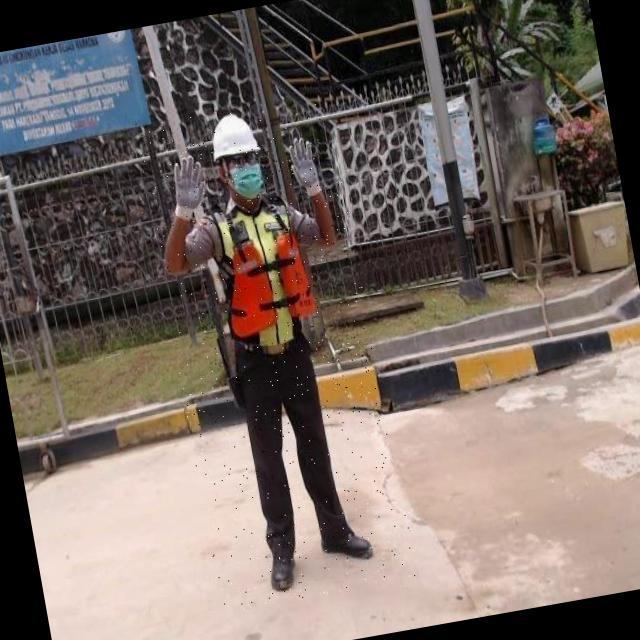boots: (316, 517, 378, 569), (264, 536, 304, 596)
gloves: (158, 150, 214, 242), (278, 126, 336, 194)
helmet: (208, 111, 262, 163)
vest: (206, 193, 324, 361)
